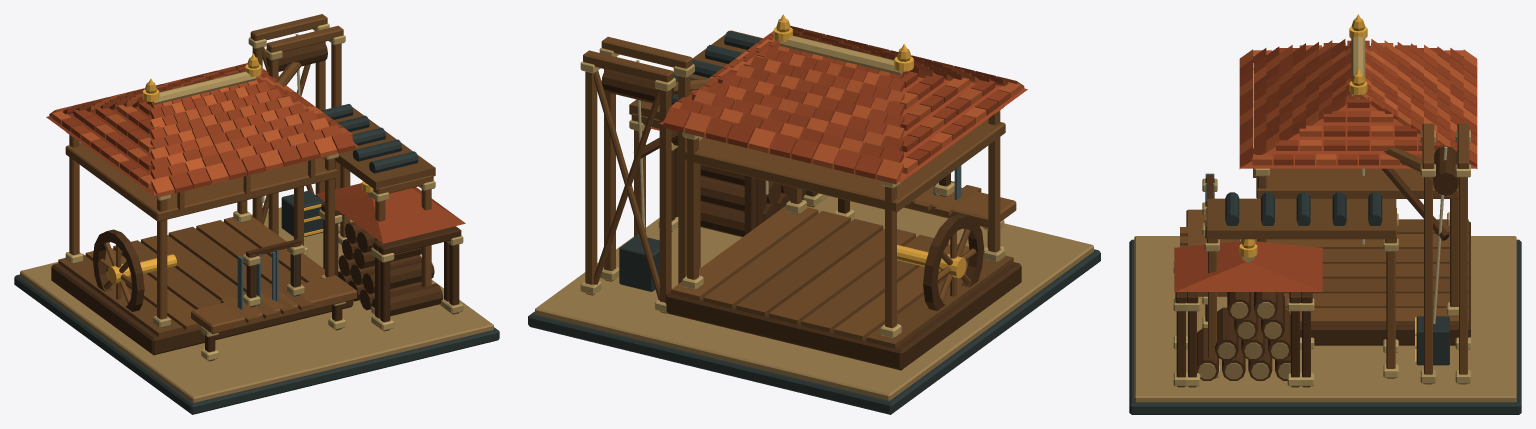
The picture shows the model from 3 angles, left to right: view 1: azimuth 30°, elevation 25°; view 2: azimuth 150°, elevation 25°; view 3: azimuth 270°, elevation 25°; orthographic projection. The views are drawn at different scales.
Visible parts, largest first — view 1: lumber_10_structure, lumber_10_metal; view 2: lumber_10_structure, lumber_10_metal; view 3: lumber_10_structure, lumber_10_metal.
Part boxes in pixels (<box>): lumber_10_structure: <box>14,14,499,414</box>; lumber_10_metal: <box>107,53,373,283</box>; lumber_10_structure: <box>528,19,1100,414</box>; lumber_10_metal: <box>671,14,966,278</box>; lumber_10_structure: <box>1129,18,1521,414</box>; lumber_10_metal: <box>1239,14,1416,364</box>.
Bounding box in the file's own units: 5.6 × 4.26 × 5.6.
